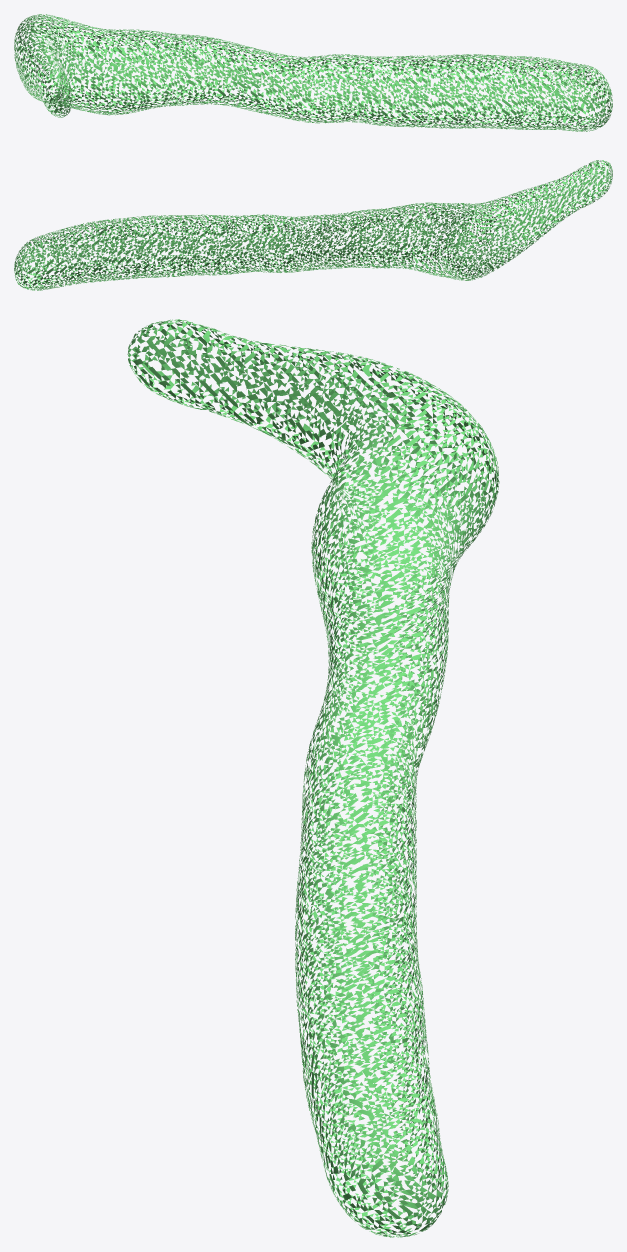
The model's file is morph_018.glb.
3 renders of one model, top to bottom at view 1: azimuth 30°, elevation 25°; view 2: azimuth 150°, elevation 25°; view 3: azimuth 270°, elevation 25°, orthographic. The views are drawn at different scales.
Bounding box in the file's own units: 145 × 55.07 × 43.89.
